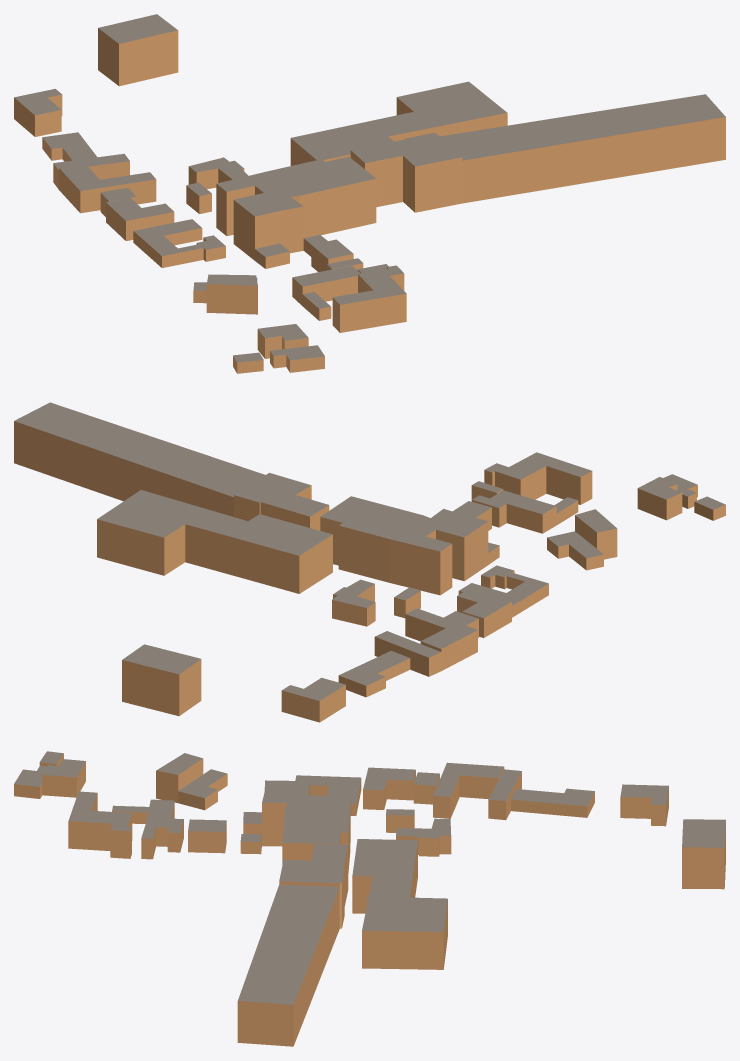
Rendered from atrive.glb.
3 views of the same model, one above another, from view 1: azimuth 30°, elevation 25°; view 2: azimuth 150°, elevation 25°; view 3: azimuth 270°, elevation 25° (orthographic).
Parts seen in each view (by area): view 1: map_16.osm_buildings; view 2: map_16.osm_buildings; view 3: map_16.osm_buildings.
Part boxes in pixels (x1,y1,x2,y2): map_16.osm_buildings: (14,14,725,373); map_16.osm_buildings: (14,402,725,722); map_16.osm_buildings: (14,751,725,1046).
Bounding box in the file's own units: 230 × 17.08 × 243.
